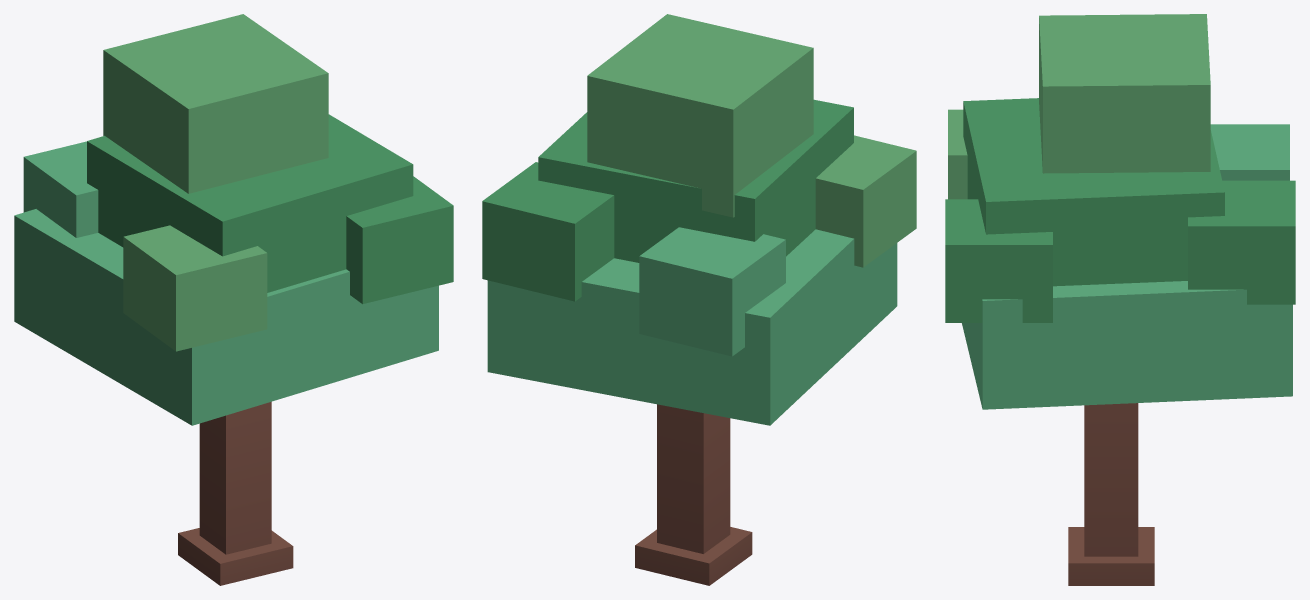
The model's file is box-tree-m.glb.
3 views of the same model, side by side, from view 1: azimuth 30°, elevation 25°; view 2: azimuth 150°, elevation 25°; view 3: azimuth 270°, elevation 25° (orthographic). The views are drawn at different scales.
Parts seen in each view (by area): view 1: box-tree-m_body; view 2: box-tree-m_body; view 3: box-tree-m_body.
Boxes of the visible parts, left/top/right/bottom form: box-tree-m_body: left=14, top=14, right=453, bottom=585; box-tree-m_body: left=482, top=14, right=916, bottom=585; box-tree-m_body: left=945, top=14, right=1295, bottom=585.
Size of the model in its own units: 3.42 by 5.64 by 3.51.
